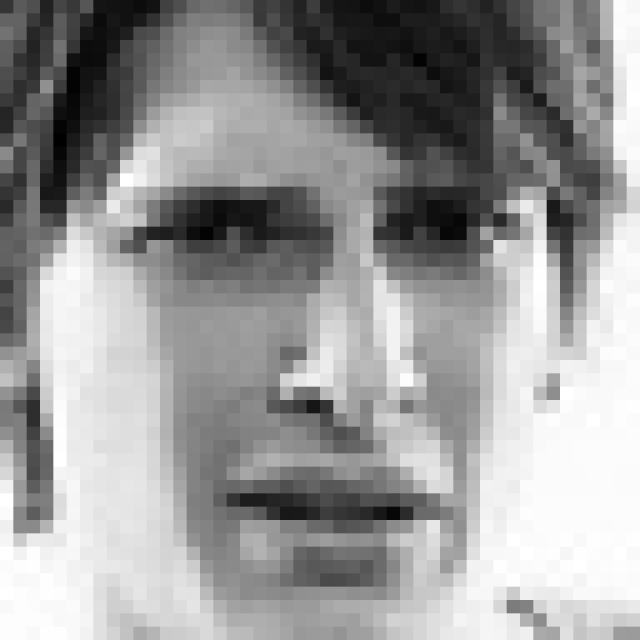disgust: (121, 180, 532, 594)
